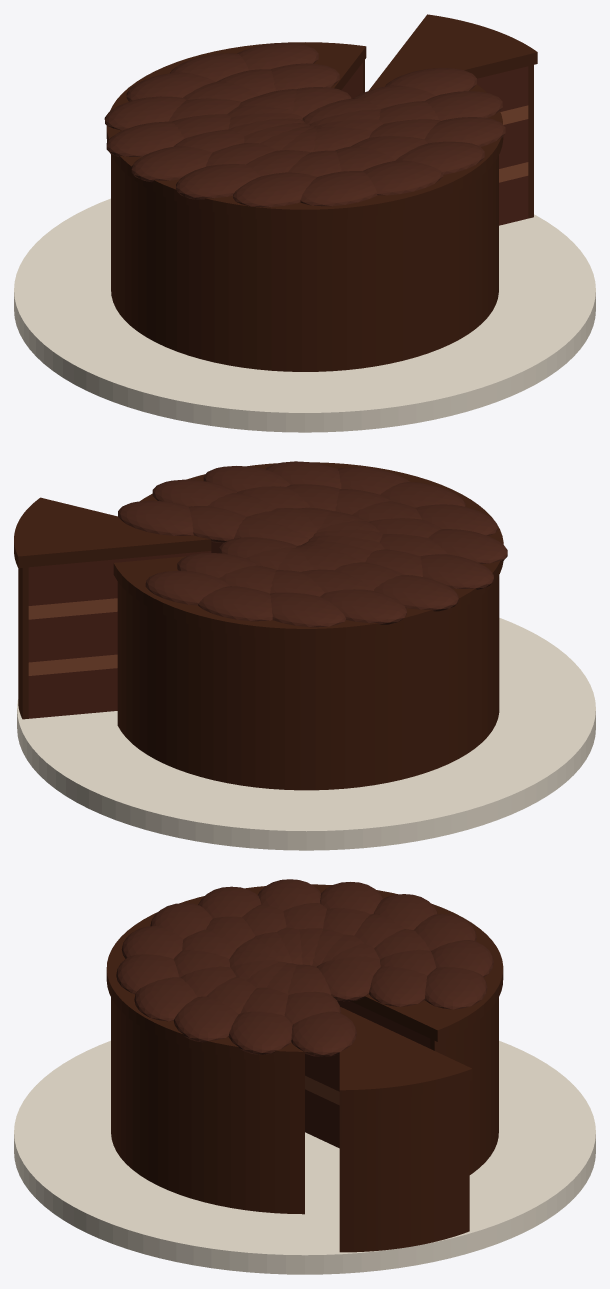
The model's file is torta.glb.
3 views of the same model, one above another, from view 1: azimuth 30°, elevation 25°; view 2: azimuth 150°, elevation 25°; view 3: azimuth 270°, elevation 25° (orthographic).
Visible parts, largest first — view 1: geometry_6, geometry_0, geometry_7, geometry_56, geometry_28, geometry_31, geometry_34, geometry_25, geometry_37, geometry_22, geometry_40, geometry_43 (+31 smaller); view 2: geometry_6, geometry_0, geometry_7, geometry_56, geometry_52, geometry_50, geometry_54, geometry_49, geometry_19, geometry_16, geometry_22, geometry_13 (+35 smaller); view 3: geometry_0, geometry_6, geometry_55, geometry_7, geometry_56, geometry_49, geometry_46, geometry_10, geometry_43, geometry_9, geometry_40, geometry_37 (+30 smaller).
Part boxes in pixels (x1,y1,x2,y2): geometry_6: [111, 60, 498, 371]; geometry_0: [14, 198, 595, 432]; geometry_7: [106, 42, 503, 221]; geometry_56: [368, 14, 537, 90]; geometry_28: [176, 164, 259, 199]; geometry_31: [233, 172, 316, 207]; geometry_34: [300, 171, 377, 206]; geometry_25: [131, 146, 212, 182]; geometry_37: [362, 160, 443, 195]; geometry_22: [106, 121, 183, 156]; geometry_40: [395, 141, 484, 174]; geometry_43: [424, 117, 505, 146]; geometry_6: [117, 575, 499, 790]; geometry_0: [17, 618, 595, 850]; geometry_7: [113, 462, 503, 640]; geometry_56: [14, 497, 211, 568]; geometry_52: [28, 611, 117, 662]; geometry_50: [28, 668, 117, 718]; geometry_54: [28, 551, 211, 605]; geometry_49: [118, 500, 193, 535]; geometry_19: [320, 589, 406, 624]; geometry_16: [270, 592, 345, 627]; geometry_22: [374, 575, 458, 611]; geometry_13: [198, 586, 272, 621]; geometry_0: [14, 1040, 595, 1274]; geometry_6: [111, 997, 498, 1214]; geometry_55: [339, 1081, 469, 1252]; geometry_7: [106, 884, 503, 1063]; geometry_56: [339, 1007, 472, 1101]; geometry_49: [291, 1011, 356, 1056]; geometry_46: [228, 1011, 292, 1054]; geometry_10: [425, 967, 487, 1009]; geometry_43: [174, 996, 238, 1042]; geometry_9: [369, 966, 426, 1006]; geometry_40: [134, 977, 197, 1021]; geometry_37: [116, 954, 178, 994].
Bounding box in the file's own units: 0.27 × 0.0988 × 0.27.
